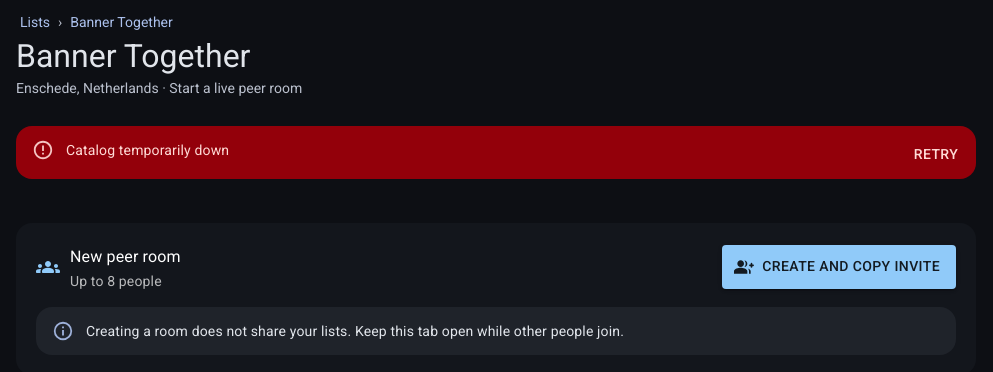
Test: retries a failed catalog without refetching private memberships
Expected: the text "Catalog temporarily down" is shown, [66, 142, 229, 158]
Click the button "Retry" at (936, 154), box [904, 136, 968, 172]
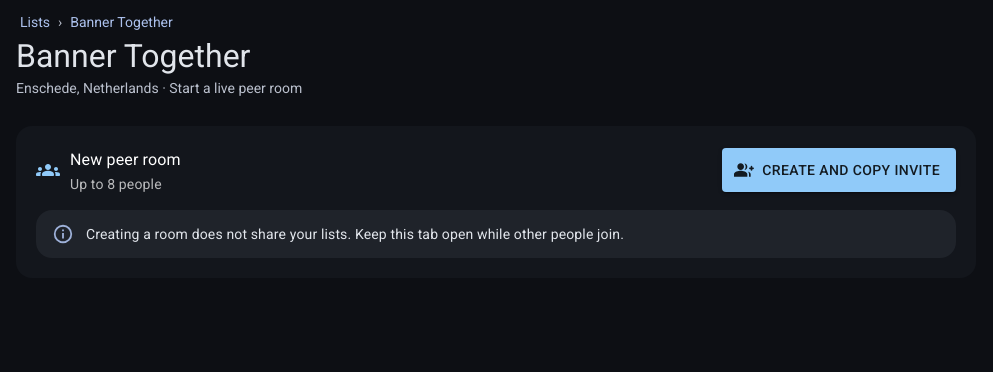
Result: the text "Catalog temporarily down" is gone
